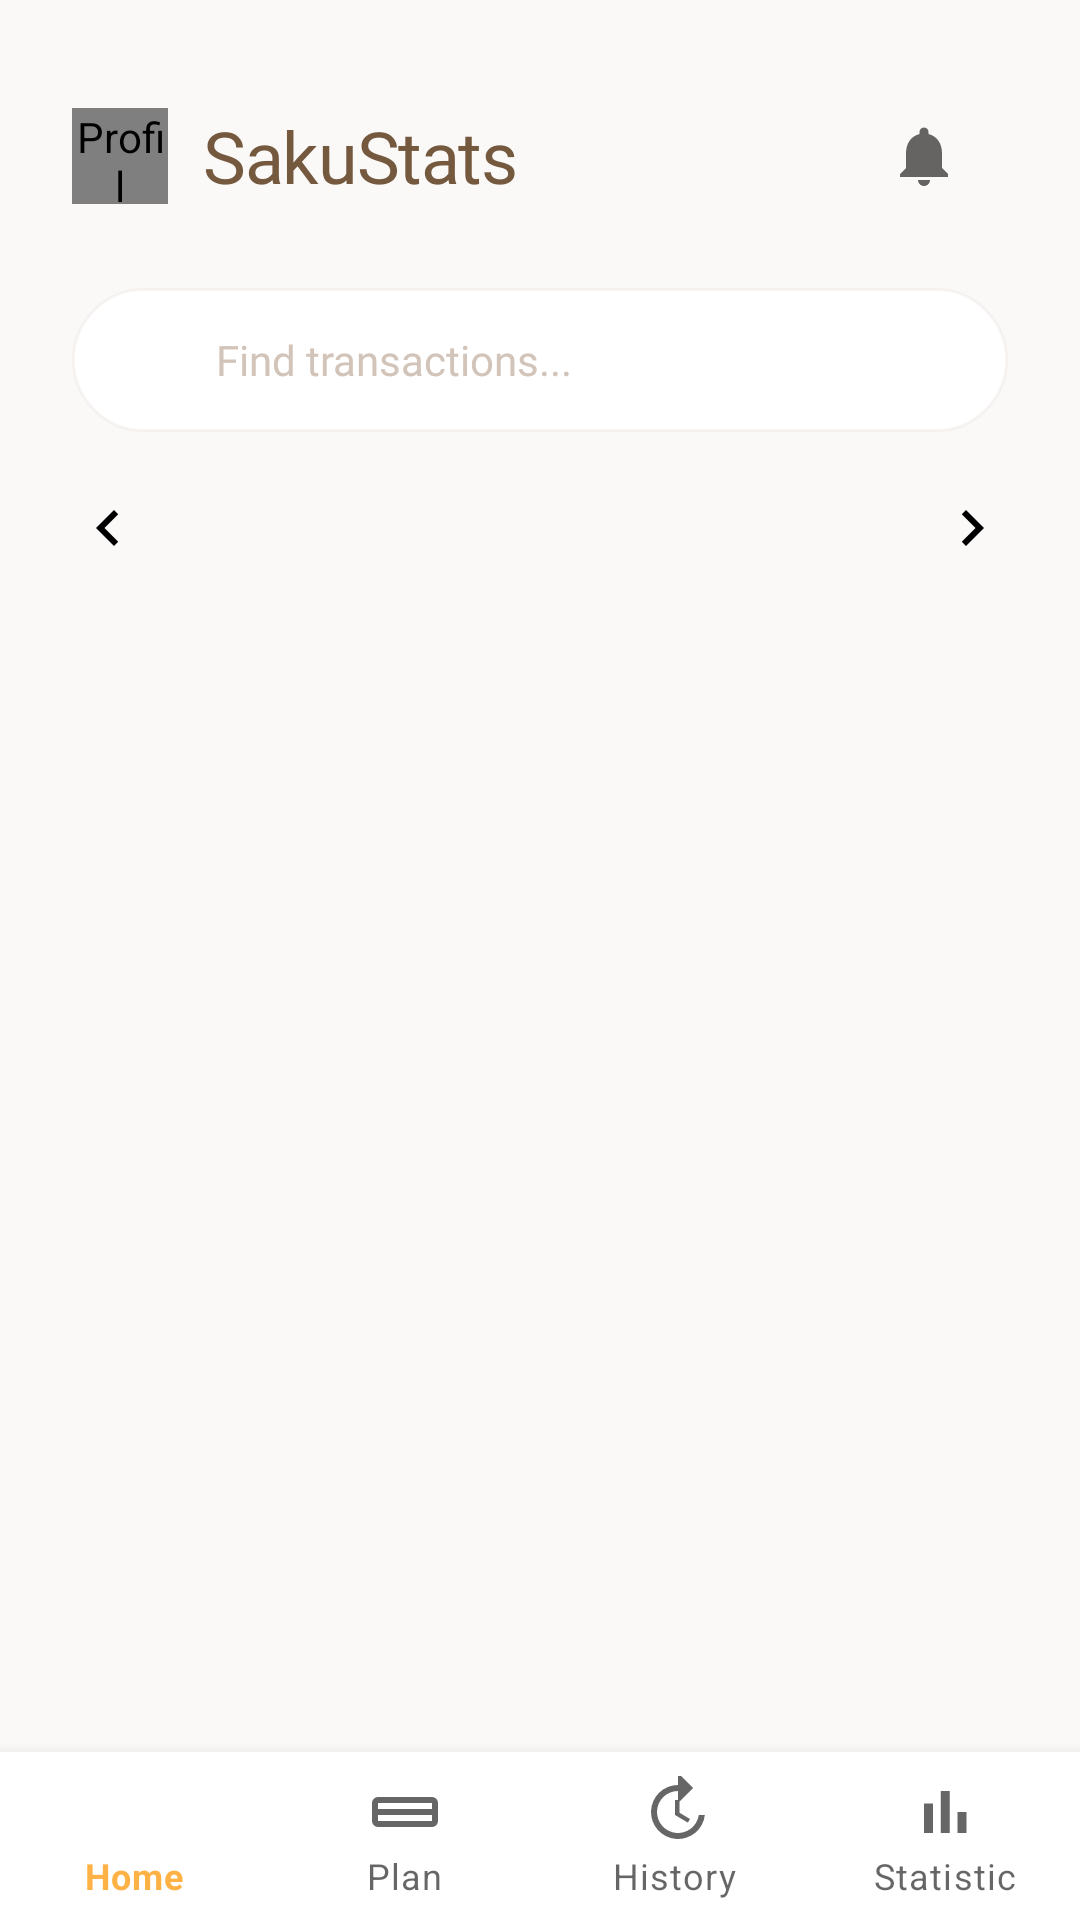

Where icons sit on this 1080w x 1920h app screen, as (x1, y1, x2, y2):
arrow left: (96, 510, 118, 546)
arrow right: (962, 510, 984, 546)
Notifikasi: (900, 127, 948, 186)
